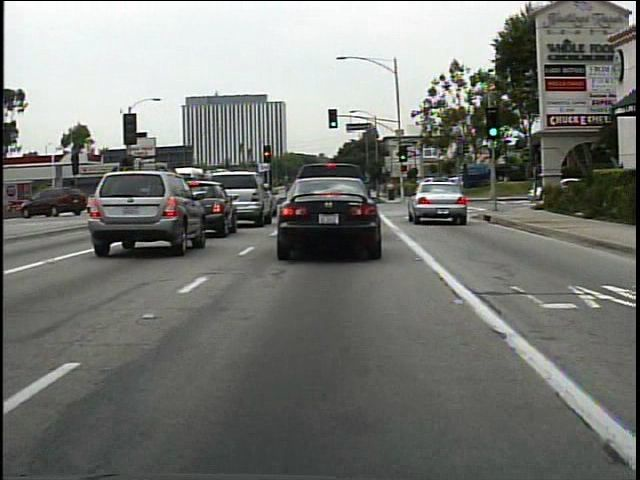person: (385, 179, 398, 203)
